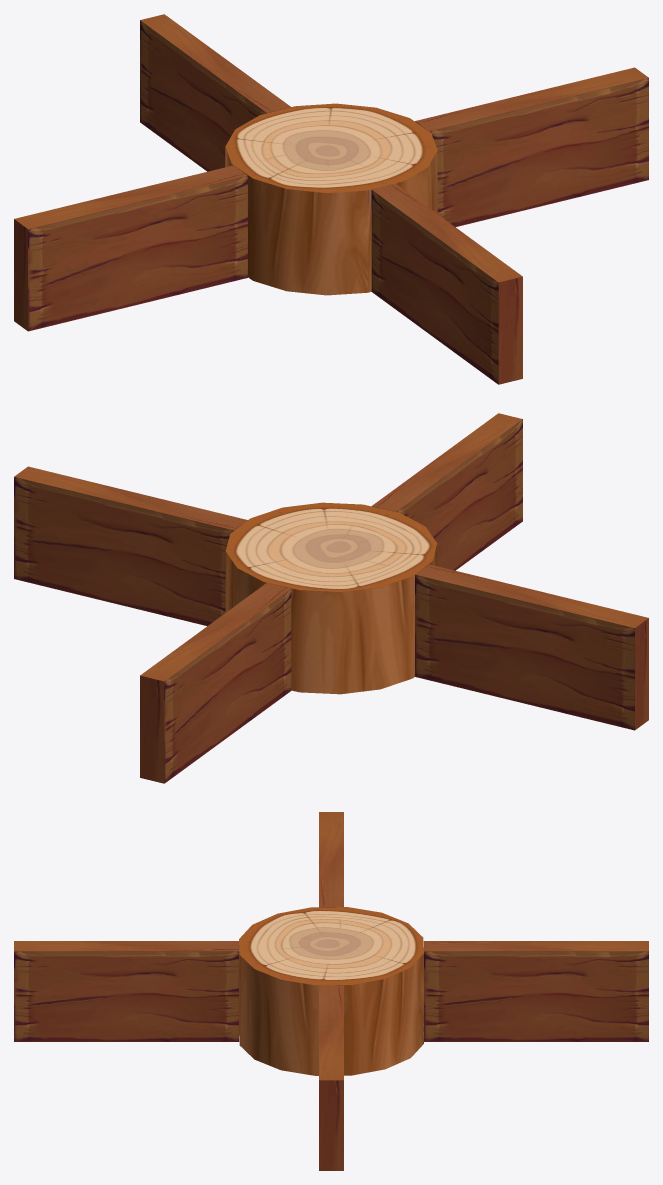
File: four_blade_wood_01.fbx
3 views of the same model, one above another, from view 1: azimuth 30°, elevation 25°; view 2: azimuth 150°, elevation 25°; view 3: azimuth 270°, elevation 25° (orthographic). The views are drawn at different scales.
Visible parts, largest first — view 1: four_blade_wood_01; view 2: four_blade_wood_01; view 3: four_blade_wood_01.
Boxes of the visible parts, x1,y1,x2,y2 form: four_blade_wood_01: [14, 14, 648, 384]; four_blade_wood_01: [14, 413, 648, 783]; four_blade_wood_01: [14, 812, 648, 1170].
Size of the model in its own units: 254 by 40 by 254.
